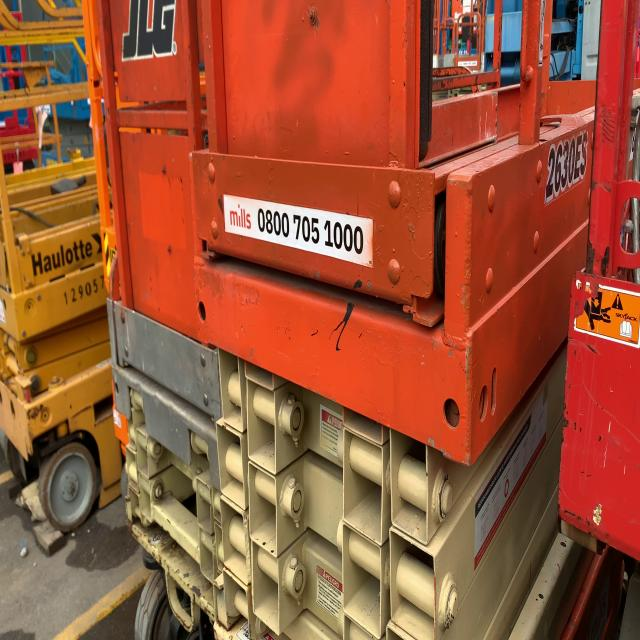Adesivo Longo: (222, 192, 374, 270)
